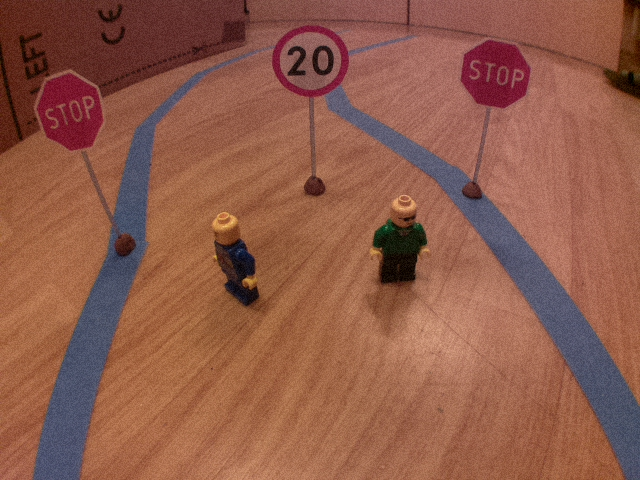LEGO_person: (369, 188, 437, 287), (208, 210, 265, 312)
ogr_20: (269, 22, 352, 102)
stop: (31, 67, 108, 155), (457, 34, 536, 112)
